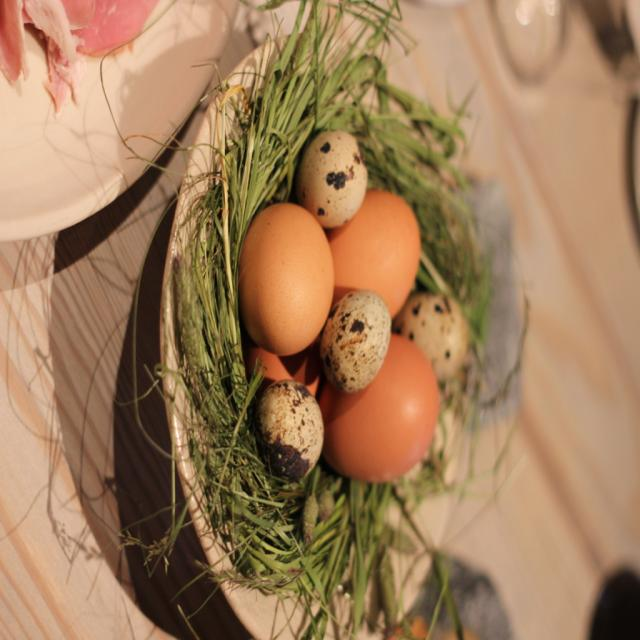Egg: (239, 135, 470, 482)
